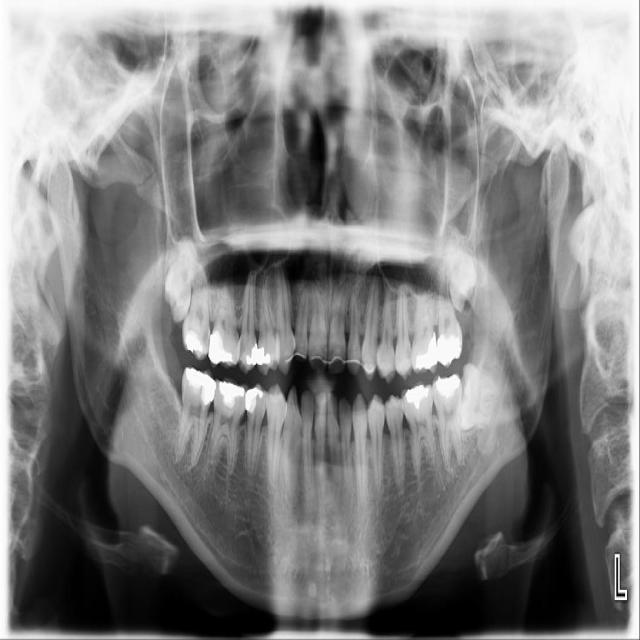3M ESPE Implant: (158, 223, 202, 324)
52: (395, 377, 442, 425), (206, 373, 255, 417), (176, 364, 220, 409), (206, 326, 243, 370), (429, 369, 465, 413), (182, 312, 212, 360), (437, 319, 463, 368), (411, 330, 439, 374), (242, 382, 270, 421), (257, 331, 280, 376), (236, 336, 259, 375)
73: (606, 566, 610, 572)
BioHorizons Implant: (434, 256, 464, 368)
BioLife Implant: (444, 219, 478, 313)
Biomet 3i Implant: (450, 360, 500, 434)
Blue Sky Bio Implant: (431, 370, 465, 469)
Caries: (179, 251, 212, 362)
Implant: (174, 364, 217, 465)
